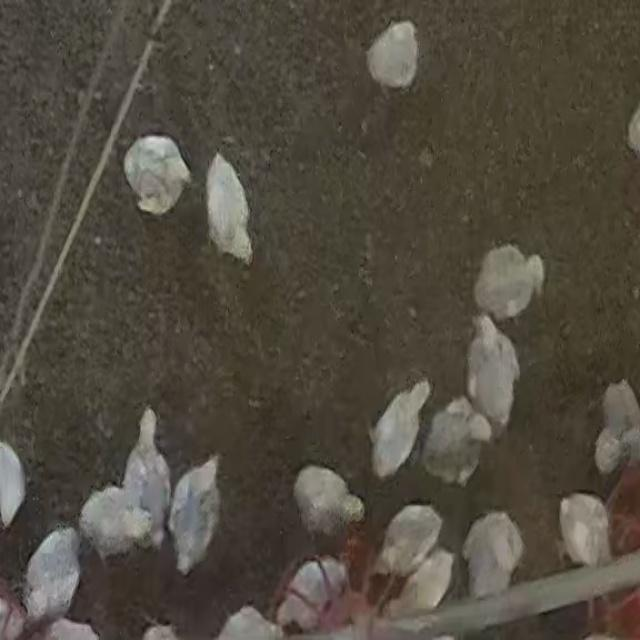chicken: (465, 314, 523, 444), (121, 406, 172, 552), (420, 398, 493, 488), (168, 454, 222, 575), (370, 381, 434, 481), (22, 525, 84, 627), (78, 484, 154, 563), (471, 245, 545, 324), (374, 502, 446, 580), (292, 462, 364, 540), (206, 152, 253, 266), (276, 557, 350, 627), (389, 547, 455, 619), (593, 379, 640, 478), (462, 512, 518, 595), (124, 142, 188, 212), (556, 492, 612, 570), (364, 22, 421, 88), (216, 605, 292, 640), (0, 440, 28, 530)
